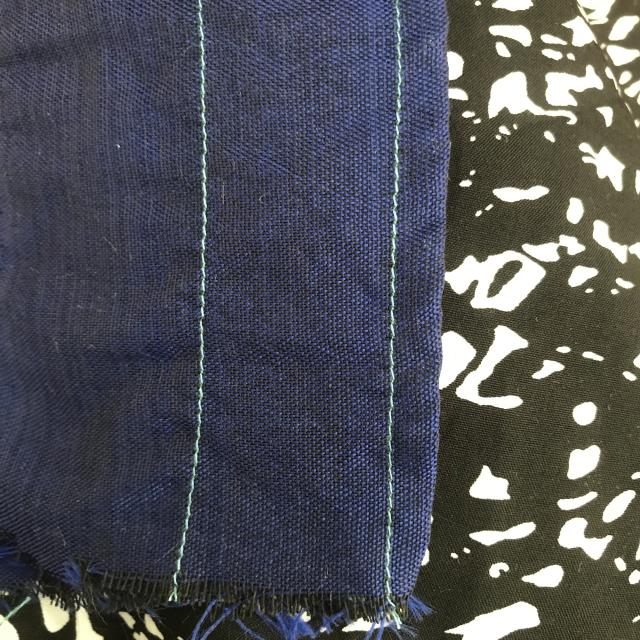good: (186, 22, 226, 339), (381, 348, 413, 541), (388, 34, 410, 314), (184, 377, 210, 538)
